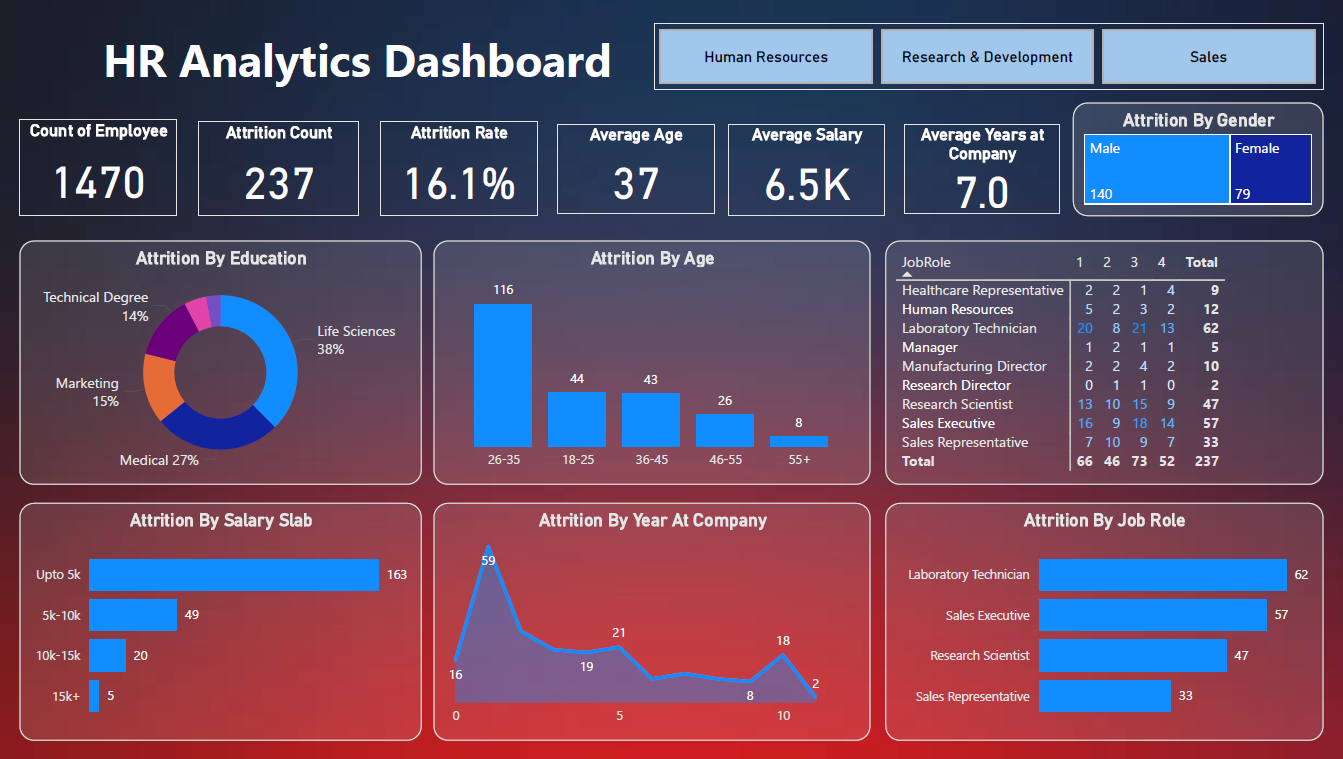

The dashboard page shown, as its layout file describes it:
{"tool":"powerbi","page":{"name":"Page 1","canvas":[1280,720],"ordinal":0},"visuals":[{"type":"card","title":"Count of Employee","fields":{"Values":["CountNonNull(HR_Analytics.EmpID)"]},"box":[20,113.3,150,91.7],"z":0},{"type":"card","title":"Attrition Count","fields":{"Values":["Sum(HR_Analytics.AttritionCount)"]},"box":[190,115,151.7,90],"z":1000},{"type":"card","title":"Attrition Rate","fields":{"Values":["HR_Analytics.Attrition Rate"]},"box":[361.7,115,150,90],"z":2000},{"type":"card","title":"Average Age","fields":{"Values":["Avg(HR_Analytics.Age)"]},"box":[530,116.7,150,86.7],"z":3000},{"type":"card","title":"Average Salary","fields":{"Values":["Avg(HR_Analytics.MonthlyIncome)"]},"box":[693.3,116.7,148.3,88.3],"z":4000},{"type":"card","title":"Average Years at Company","fields":{"Values":["Avg(HR_Analytics.YearsAtCompany)"]},"box":[860,116.7,148.3,86.7],"z":5000},{"type":"donutChart","title":"Attrition By Education","fields":{"Category":["HR_Analytics.EducationField"],"Y":["Sum(HR_Analytics.AttritionCount)"]},"box":[20,228.3,381.7,231.7],"z":6000},{"type":"columnChart","title":"Attrition By Age","fields":{"Category":["HR_Analytics.AgeGroup"],"Y":["Sum(HR_Analytics.AttritionCount)"]},"box":[413.3,228.3,415,231.7],"z":7000},{"type":"pivotTable","fields":{"Rows":["HR_Analytics.JobRole"],"Columns":["HR_Analytics.JobSatisfaction"],"Values":["Sum(HR_Analytics.AttritionCount)"]},"box":[841.7,228.3,416.7,231.7],"z":8000},{"type":"clusteredBarChart","title":"Attrition By Age","fields":{"Category":["HR_Analytics.AgeGroup"],"Y":["Sum(HR_Analytics.AttritionCount)"]},"box":[20,476.7,381.7,226.7],"z":9000},{"type":"clusteredBarChart","title":"Attrition By Job Role","fields":{"Category":["HR_Analytics.JobRole"],"Y":["Sum(HR_Analytics.AttritionCount)"]},"box":[841.7,476.7,416.7,226.7],"z":10000},{"type":"areaChart","title":"Attrition By Year At Company","fields":{"Category":["HR_Analytics.YearsAtCompany"],"Y":["Sum(HR_Analytics.AttritionCount)"]},"box":[413.3,476.7,415,226.7],"z":10001},{"type":"treemap","title":"Attrition By Gender","fields":{"Group":["HR_Analytics.Gender"],"Values":["Sum(HR_Analytics.AttritionCount)"]},"box":[1020,96.7,238.3,108.3],"z":10002},{"type":"advancedSlicerVisual","fields":{"Values":["HR_Analytics.Department"]},"box":[621.7,21.7,636.7,63.3],"z":10003},{"type":"textbox","box":[20,21.7,641.7,75],"z":10004}]}

Visuals, with their boxes in screenshot pixels (x1, y1, x2, y2), scaled from the page's 1280x720 canvas onto the 1343x759 screenshot:
"Count of Employee" card: left=21, top=119, right=178, bottom=216
"Attrition Count" card: left=199, top=121, right=359, bottom=216
"Attrition Rate" card: left=380, top=121, right=537, bottom=216
"Average Age" card: left=556, top=123, right=713, bottom=214
"Average Salary" card: left=727, top=123, right=883, bottom=216
"Average Years at Company" card: left=902, top=123, right=1058, bottom=214
"Attrition By Education" donutChart: left=21, top=241, right=421, bottom=485
"Attrition By Age" columnChart: left=434, top=241, right=869, bottom=485
pivotTable - HR_Analytics.JobRole x HR_Analytics.JobSatisfaction: left=883, top=241, right=1320, bottom=485
"Attrition By Age" clusteredBarChart: left=21, top=503, right=421, bottom=742
"Attrition By Job Role" clusteredBarChart: left=883, top=503, right=1320, bottom=742
"Attrition By Year At Company" areaChart: left=434, top=503, right=869, bottom=742
"Attrition By Gender" treemap: left=1070, top=102, right=1320, bottom=216
advancedSlicerVisual - HR_Analytics.Department: left=652, top=23, right=1320, bottom=90
textbox: left=21, top=23, right=694, bottom=102
